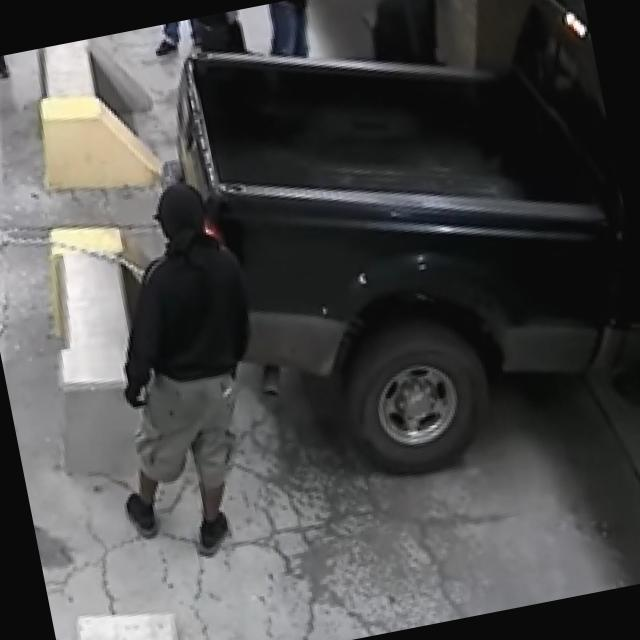person: (66, 173, 296, 567)
